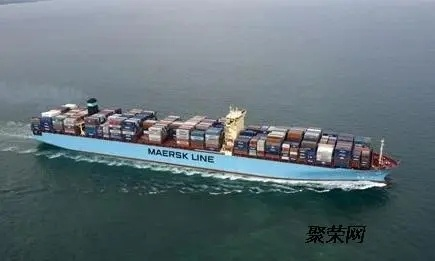Cargoship: (29, 95, 402, 190)
